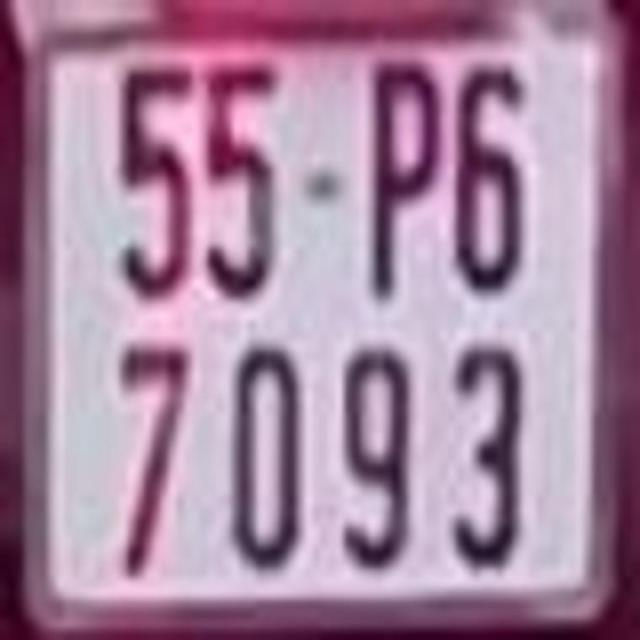0: (225, 346, 299, 567)
3: (448, 344, 521, 562)
5: (117, 69, 195, 298), (202, 71, 281, 294)
6: (453, 66, 528, 289)
7: (108, 344, 184, 577)
9: (339, 343, 410, 562)
P: (368, 68, 435, 300)
